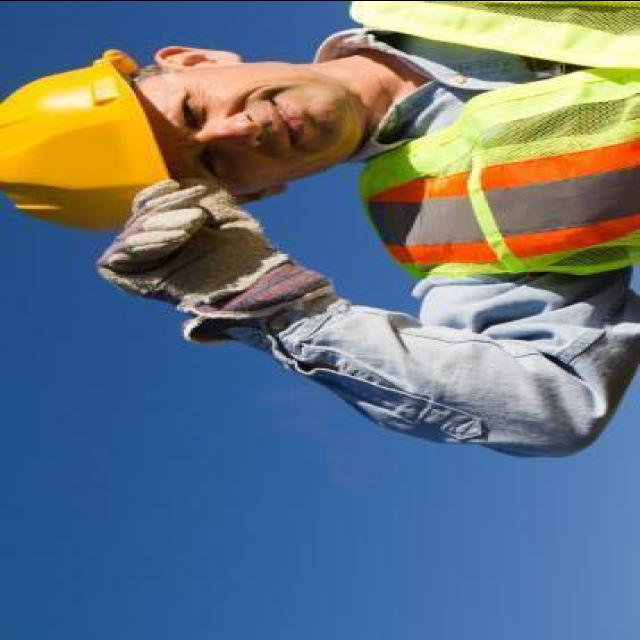helmet: (2, 42, 190, 242)
jacket: (330, 0, 630, 276)
